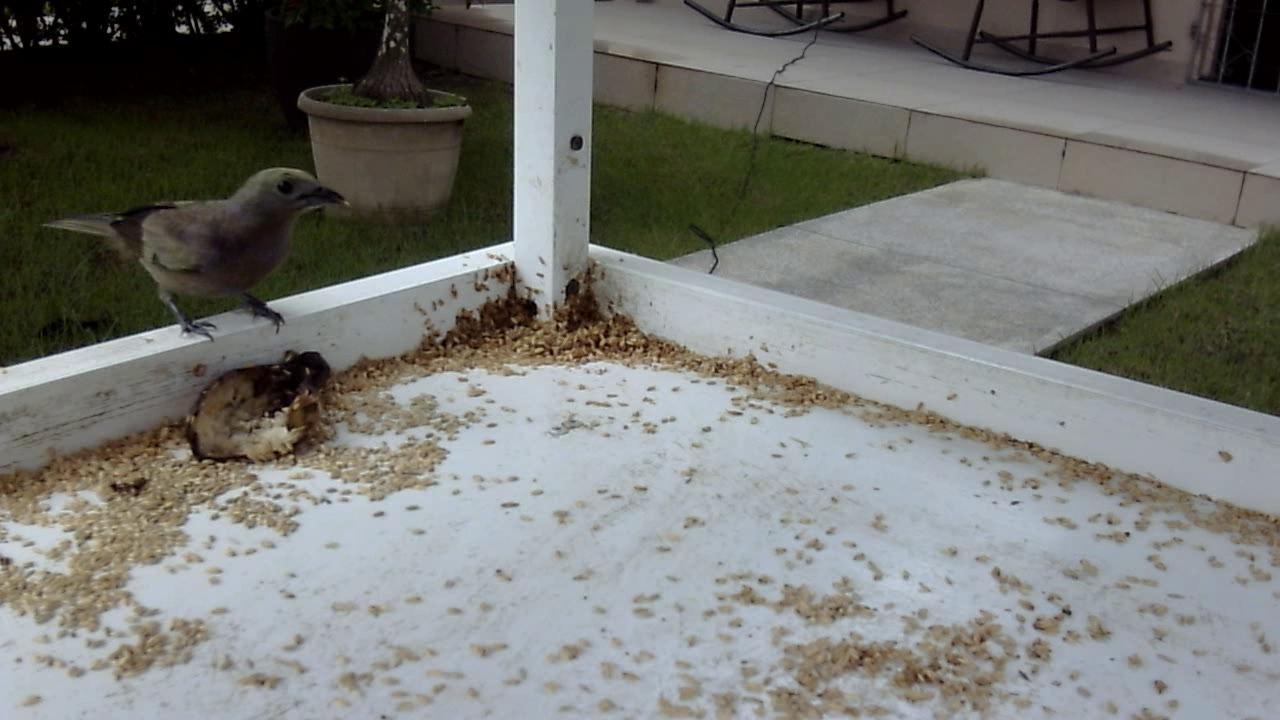sanhaco_do_coqueiro: (42, 162, 349, 354)
